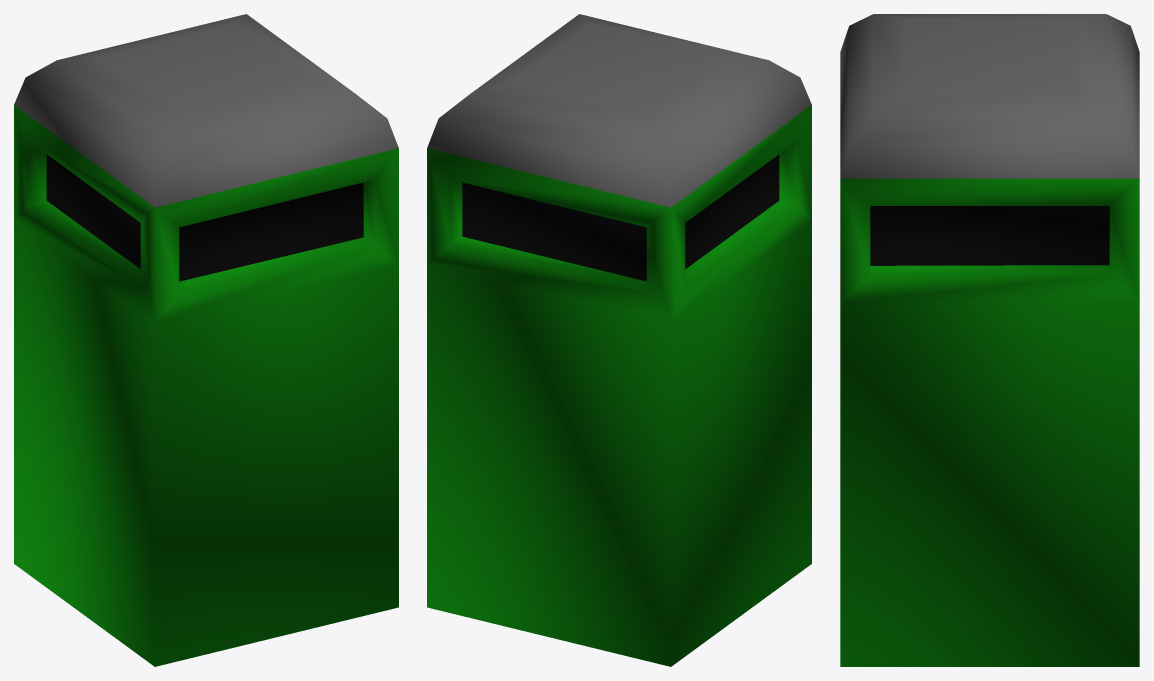
Rendered from bin.fbx.
The picture shows the model from 3 angles, left to right: view 1: azimuth 30°, elevation 25°; view 2: azimuth 150°, elevation 25°; view 3: azimuth 270°, elevation 25°; orthographic projection. The views are drawn at different scales.
Parts seen in each view (by area): view 1: Bin; view 2: Bin; view 3: Bin.
Boxes of the visible parts, left/top/right/bottom form: Bin: left=14, top=14, right=398, bottom=666; Bin: left=427, top=14, right=811, bottom=666; Bin: left=840, top=14, right=1139, bottom=666.
Size of the model in its own units: 88.69 by 179 by 88.69.
